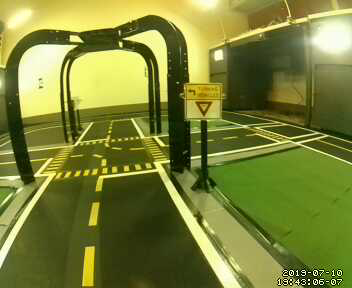Turn Yield: (184, 82, 223, 121)
